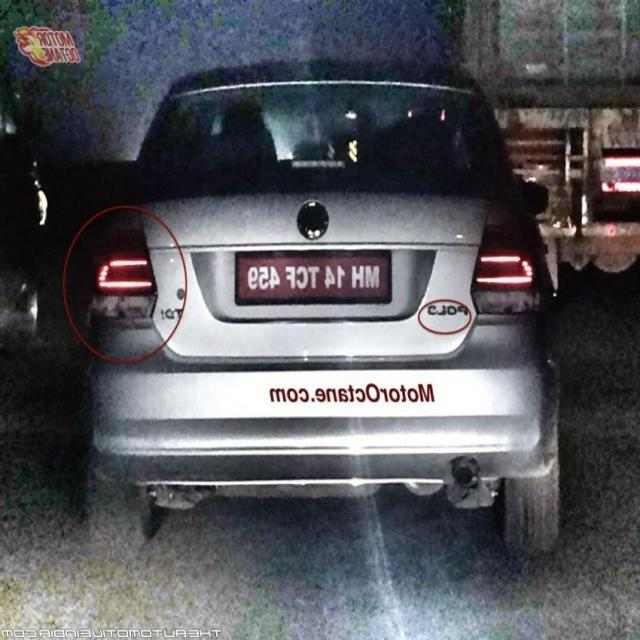number-plate: (220, 228, 408, 322)
